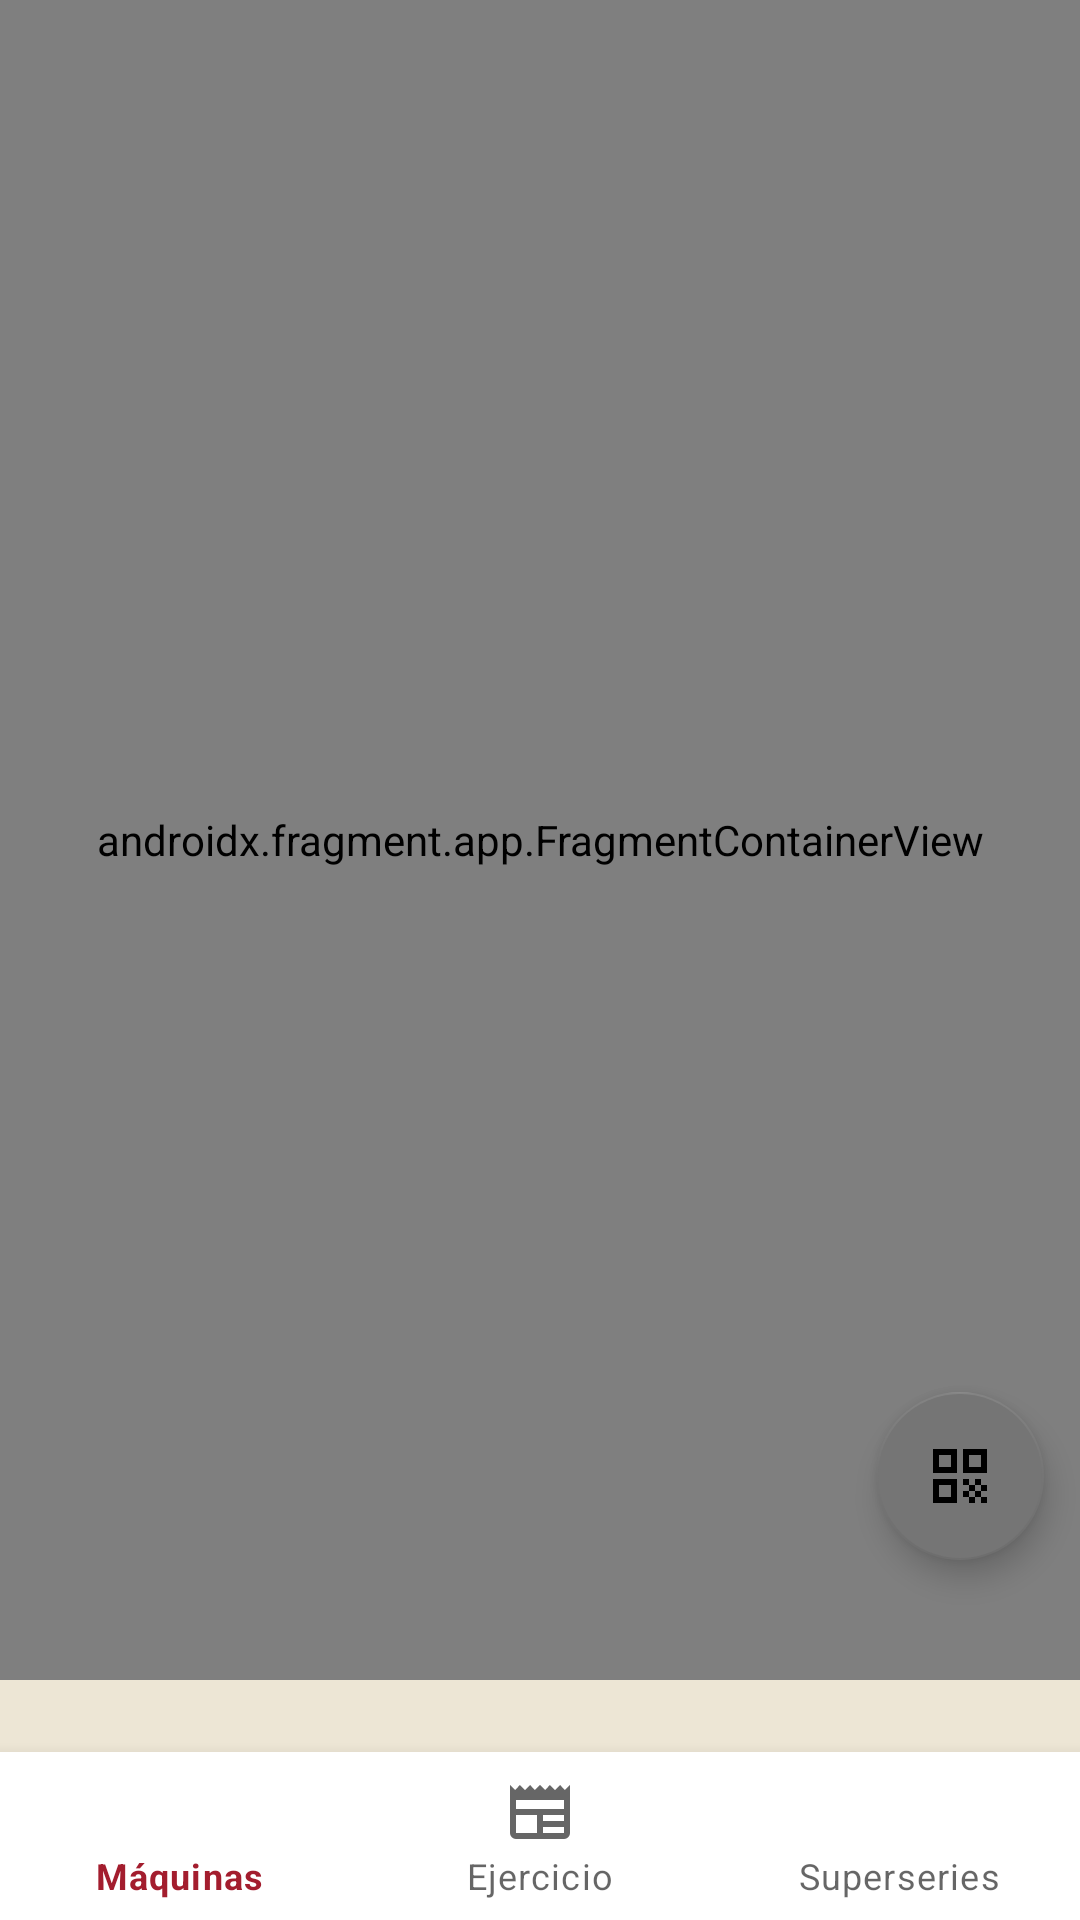

Icon click points for this 1080w x 1920h phone screenshot, format [x,y]:
Botón escanear: [960,1476]
